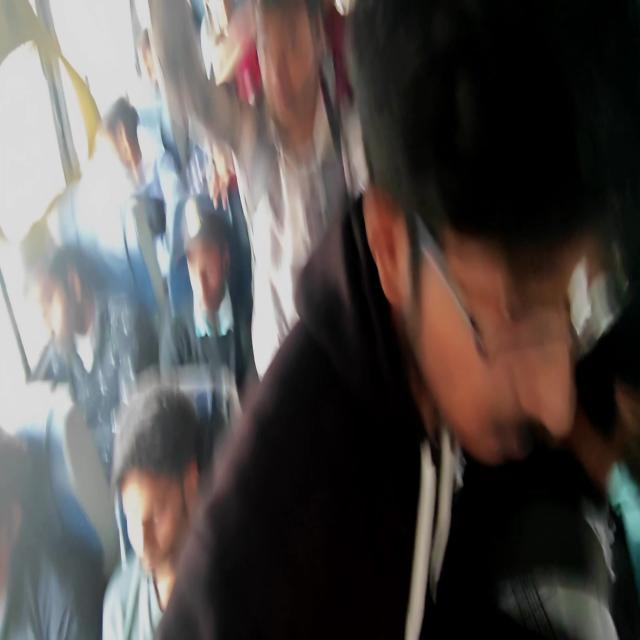person: (353, 15, 577, 403), (556, 241, 640, 598), (113, 389, 201, 553), (247, 0, 343, 99), (30, 236, 94, 356), (0, 430, 37, 626), (192, 1, 274, 80), (184, 198, 228, 341), (172, 112, 230, 214), (130, 14, 170, 85), (98, 101, 138, 165)
